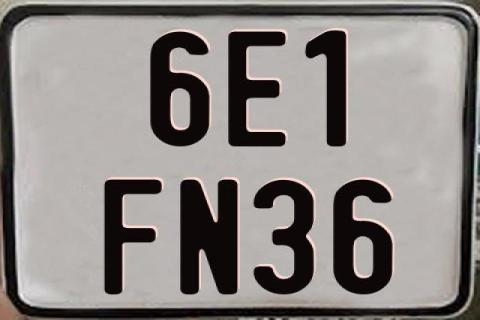0: (148, 30, 212, 148), (251, 179, 315, 293), (330, 178, 391, 296), (303, 29, 350, 145)
E: (227, 31, 286, 149)
F: (101, 178, 160, 296)
N: (180, 177, 242, 296)
